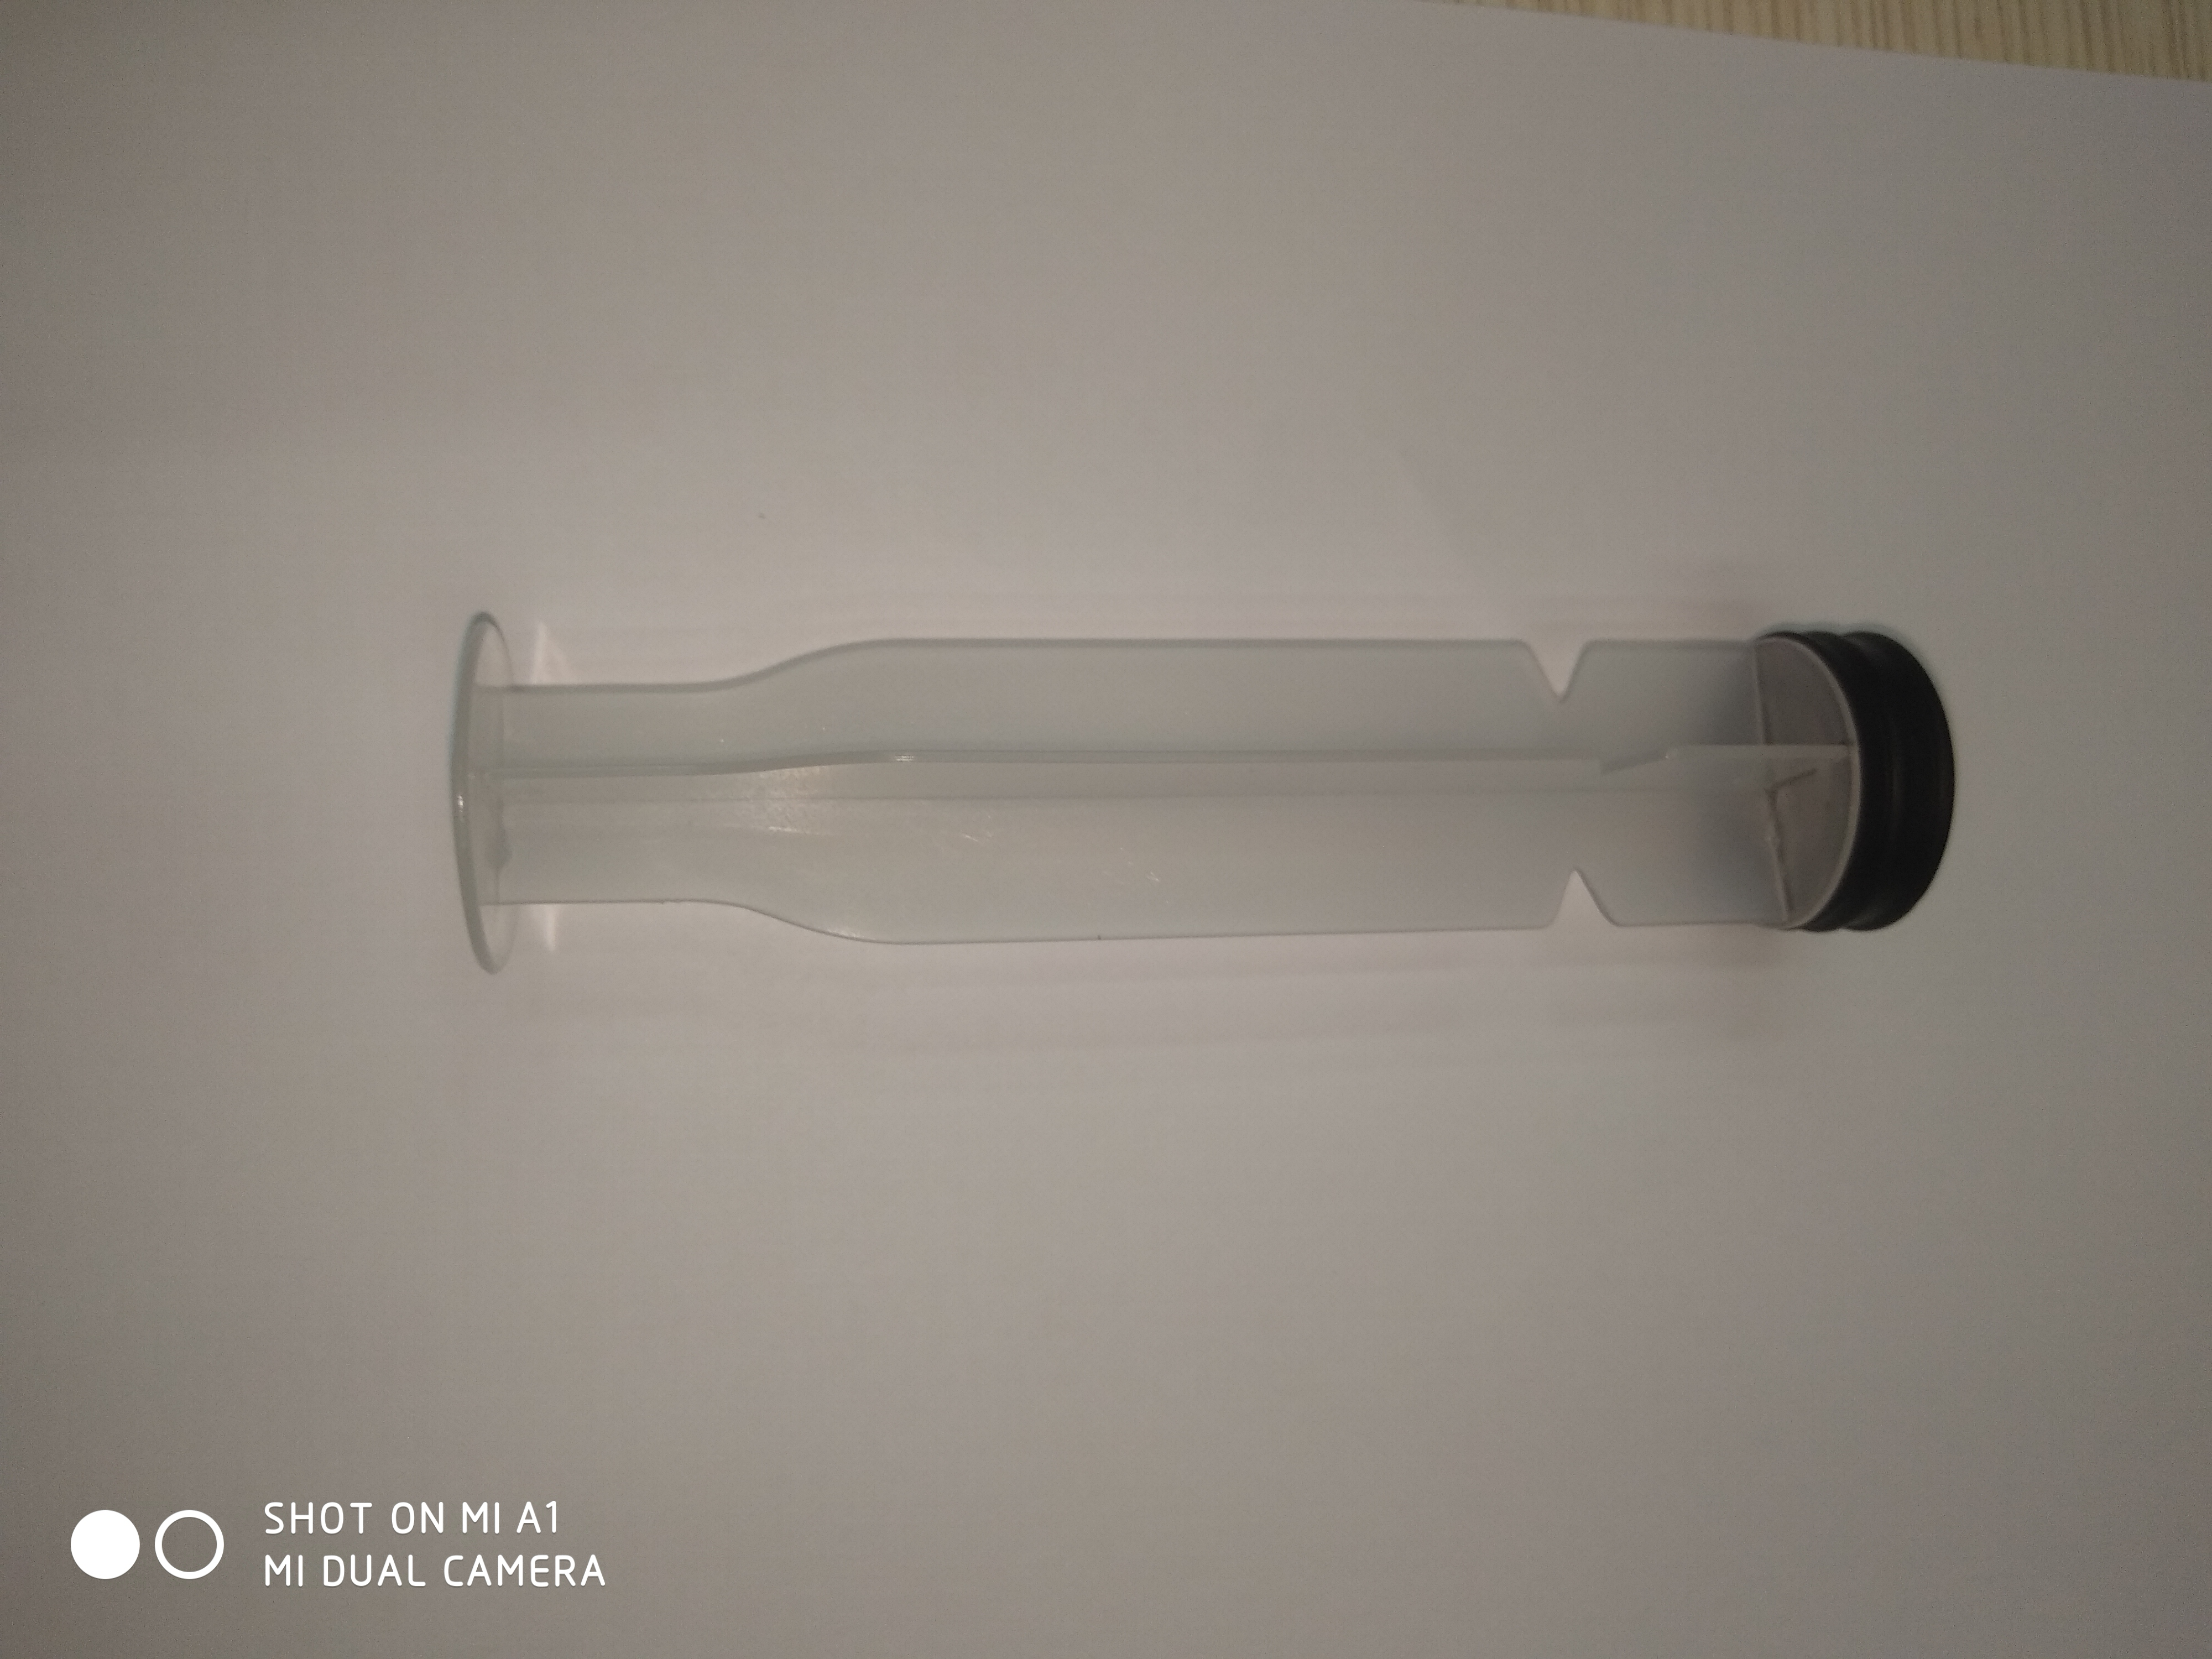plunger: (444, 603, 1966, 990)
